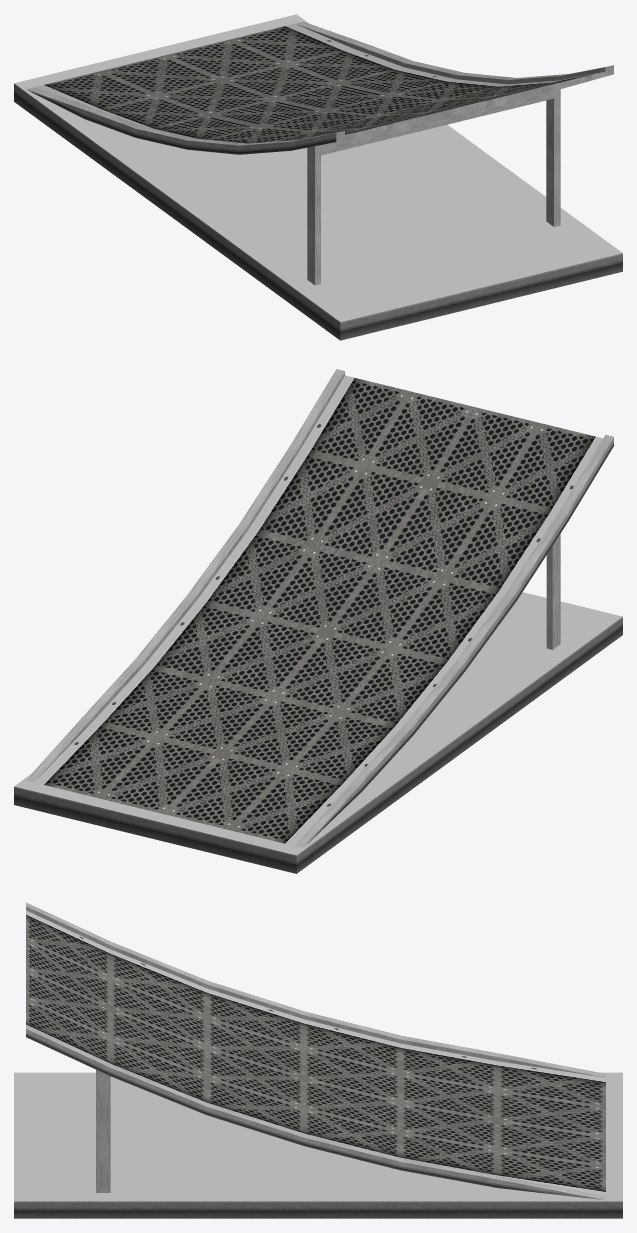
Rendered from Jump02.fbx.
The picture shows the model from 3 angles, top to bottom: view 1: azimuth 30°, elevation 25°; view 2: azimuth 150°, elevation 25°; view 3: azimuth 270°, elevation 25°; orthographic projection. The views are drawn at different scales.
Parts seen in each view (by area): view 1: Empty_Mesh; view 2: Empty_Mesh; view 3: Empty_Mesh.
Boxes of the visible parts, bbox=[...] form: Empty_Mesh: bbox=[14, 14, 622, 340]; Empty_Mesh: bbox=[14, 369, 622, 873]; Empty_Mesh: bbox=[14, 902, 622, 1218].
Bounding box in the file's own units: 1600 × 1095 × 3200.
